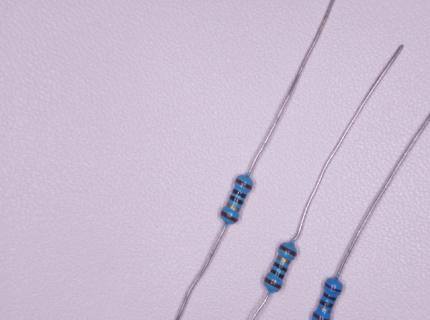Black band: (273, 261, 288, 272), (229, 194, 244, 205), (270, 268, 284, 279), (233, 188, 247, 199), (323, 292, 337, 301), (319, 299, 333, 308)
Brown band: (221, 210, 238, 223), (265, 277, 282, 290), (279, 245, 297, 257), (235, 178, 252, 190), (325, 283, 342, 292)
Gold band: (226, 202, 241, 212), (276, 255, 290, 265), (318, 305, 331, 313)
